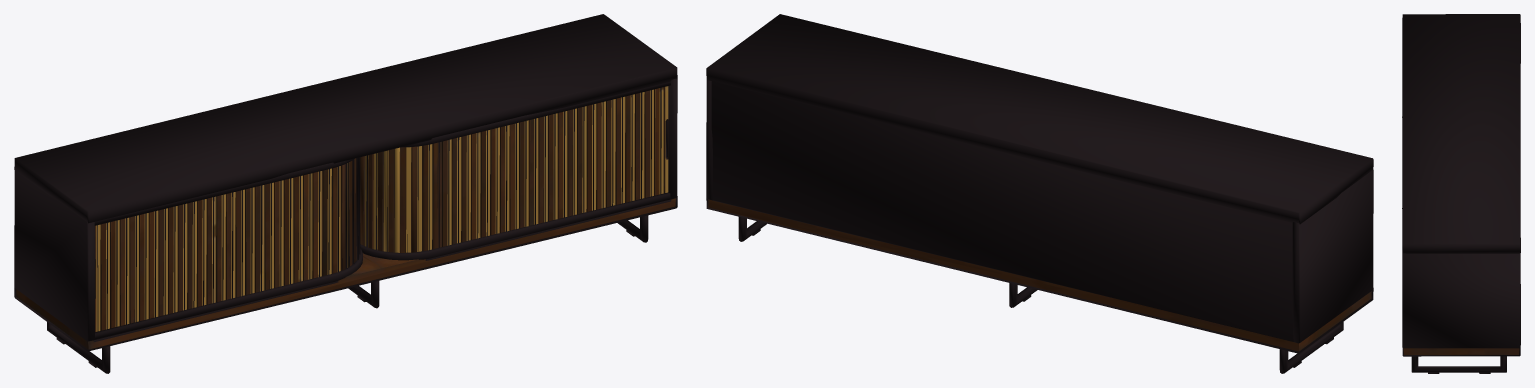
The model's file is SM_Int_MediaCabinet.fbx.
The picture shows the model from 3 angles, left to right: view 1: azimuth 30°, elevation 25°; view 2: azimuth 150°, elevation 25°; view 3: azimuth 270°, elevation 25°; orthographic projection. The views are drawn at different scales.
Parts seen in each view (by area): view 1: SM_Int_MediaCabinet; view 2: SM_Int_MediaCabinet; view 3: SM_Int_MediaCabinet.
Boxes of the visible parts, x1,y1,x2,y2 form: SM_Int_MediaCabinet: (14, 14, 677, 373); SM_Int_MediaCabinet: (706, 14, 1373, 373); SM_Int_MediaCabinet: (1402, 14, 1520, 373).
Size of what is drawn, in the model's own units: 2.45 by 0.6896 by 0.5338.
